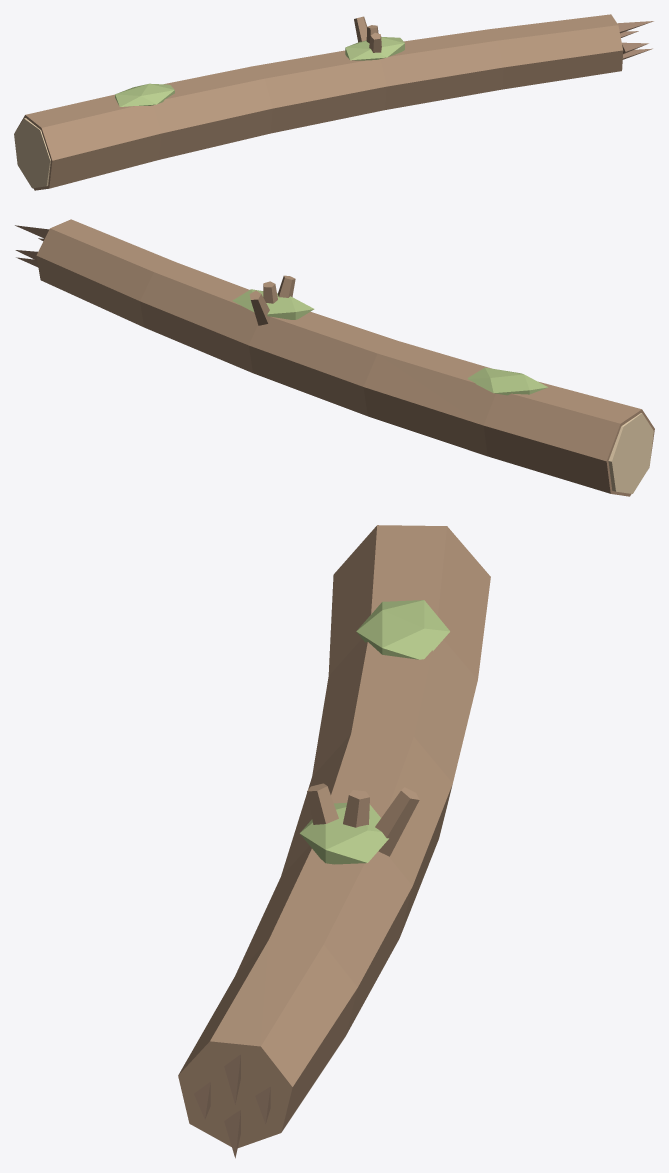
Rendered from tronco_caido_1.fbx.
3 renders of one model, top to bottom at view 1: azimuth 30°, elevation 25°; view 2: azimuth 150°, elevation 25°; view 3: azimuth 270°, elevation 25°, orthographic. The views are drawn at different scales.
Parts seen in each view (by area): view 1: tronco_caido_1~Tronco@bark, tronco_caido_1~Corte@woodcut, tronco_caido_1~Musgo 0@moss, tronco_caido_1~Musgo 1@moss; view 2: tronco_caido_1~Tronco@bark, tronco_caido_1~Corte@woodcut, tronco_caido_1~Musgo 0@moss, tronco_caido_1~Musgo 1@moss, tronco_caido_1~Toco de galho 2@bark; view 3: tronco_caido_1~Tronco@bark, tronco_caido_1~Musgo 0@moss, tronco_caido_1~Musgo 1@moss, tronco_caido_1~Toco de galho 2@bark, tronco_caido_1~Toco de galho 0@bark.
Boxes of the visible parts, x1,y1,x2,y2 form: tronco_caido_1~Tronco@bark: (16,14,623,190); tronco_caido_1~Corte@woodcut: (14,118,50,188); tronco_caido_1~Musgo 0@moss: (115,83,174,106); tronco_caido_1~Musgo 1@moss: (345,37,404,60); tronco_caido_1~Tronco@bark: (36,219,654,496); tronco_caido_1~Corte@woodcut: (608,413,653,493); tronco_caido_1~Musgo 0@moss: (467,367,548,395); tronco_caido_1~Musgo 1@moss: (232,289,314,319); tronco_caido_1~Toco de galho 2@bark: (249,290,270,325); tronco_caido_1~Tronco@bark: (178,525,490,1147); tronco_caido_1~Musgo 0@moss: (356,600,449,659); tronco_caido_1~Musgo 1@moss: (300,802,388,864); tronco_caido_1~Toco de galho 2@bark: (375,787,419,856); tronco_caido_1~Toco de galho 0@bark: (307,783,338,824).
Size of the model in its own units: 5.96 by 0.9504 by 1.39.
